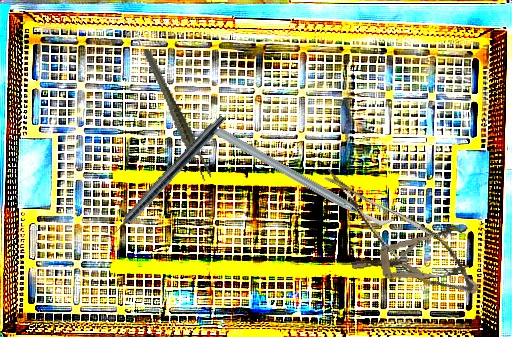Chopper: (212, 76, 396, 276)
Handpiece: (101, 111, 228, 246)
Micro Scissor: (299, 166, 496, 306)
Speculum: (348, 224, 472, 289)
Tissue Forceps: (142, 40, 213, 189)
